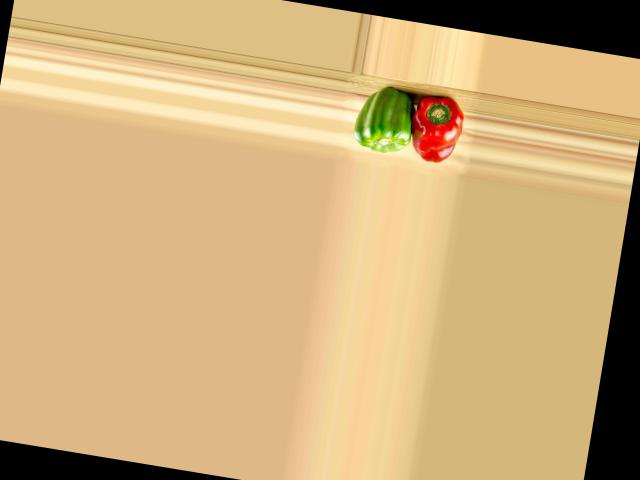bell_pepper: (404, 92, 468, 166)
